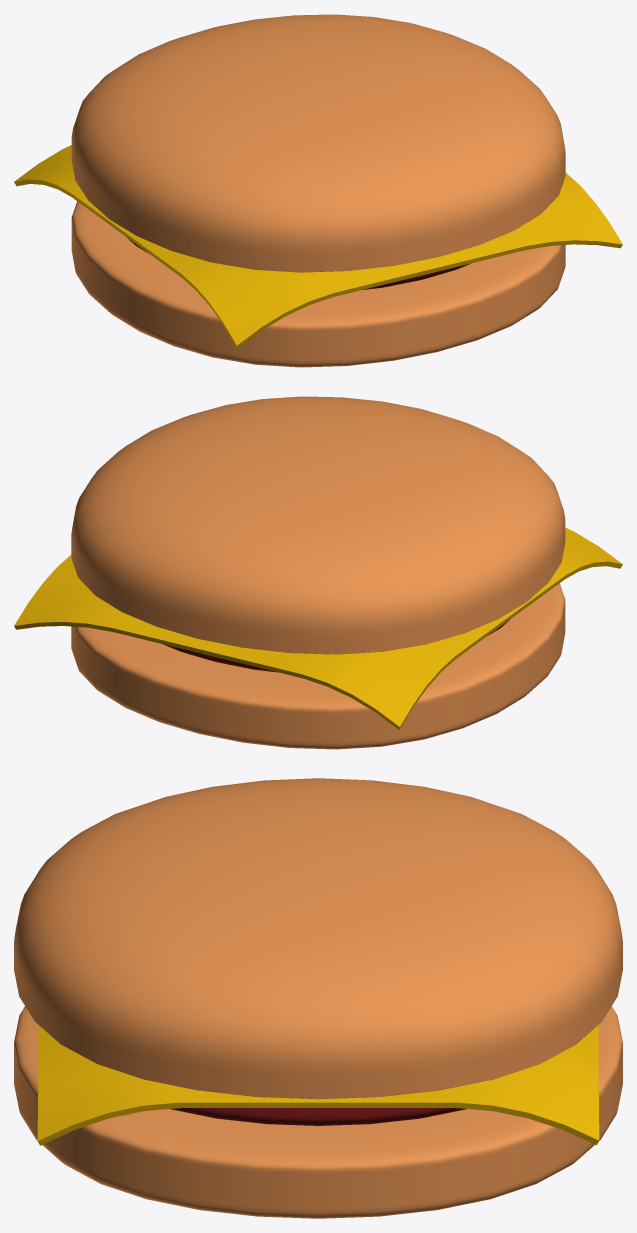
The model's file is hamburger.glb.
The picture shows the model from 3 angles, top to bottom: view 1: azimuth 30°, elevation 25°; view 2: azimuth 150°, elevation 25°; view 3: azimuth 270°, elevation 25°; orthographic projection. The views are drawn at different scales.
Visible parts, largest first — view 1: Top Bun, Bottom Bun, Cheese; view 2: Top Bun, Bottom Bun, Cheese, Patty; view 3: Top Bun, Bottom Bun, Cheese, Patty.
Part boxes in pixels (x1,y1,x2,y2): Top Bun: (71,14,565,272); Bottom Bun: (71,201,565,367); Cheese: (14,145,622,348); Top Bun: (71,396,565,654); Bottom Bun: (71,583,565,749); Cheese: (14,527,622,729); Patty: (163,620,509,672); Top Bun: (14,778,622,1099); Bottom Bun: (14,1006,622,1218); Cheese: (37,1025,599,1145); Patty: (170,1108,466,1125).
Bounding box in the file's own units: 0.0917 × 0.0413 × 0.0917.
